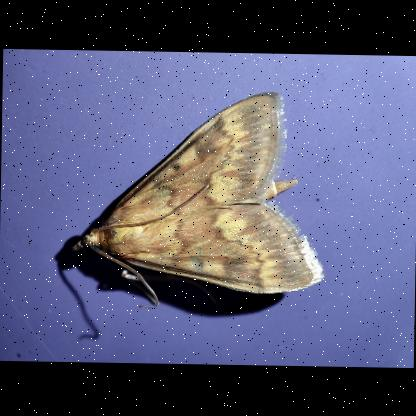Asian Corn Borer Moth: (67, 86, 329, 314)
